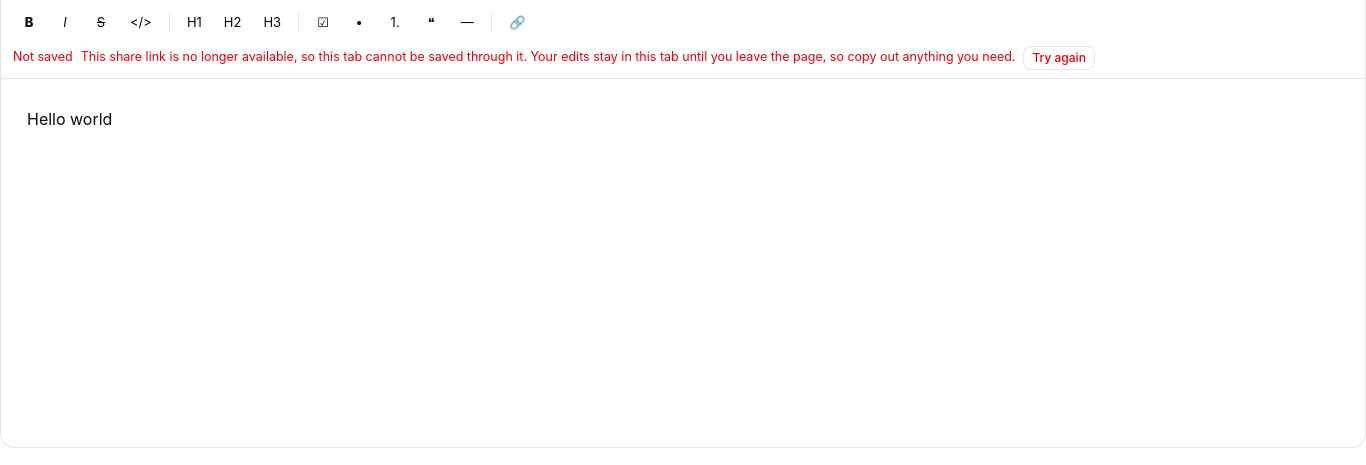
Test: a link page whose link was revoked while it was open, through the real route and island › writes again once, and lands, only when Try again is chosen
The width and height of the screenshot is (1366, 465).
Click the button "Try again": (1059, 58) [1024,46,1095,70]
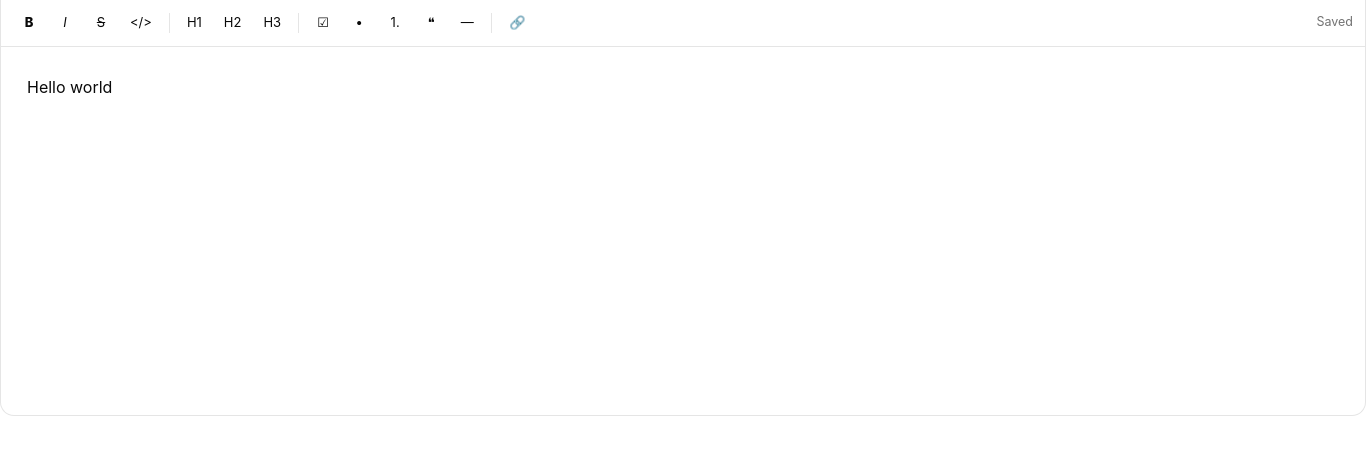
Check: the message reads "Saved", box [1316,14,1353,29]
